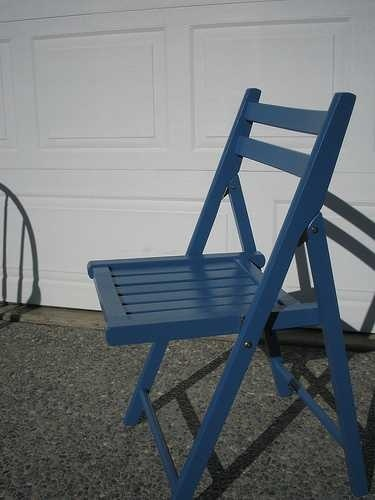obstacle: (88, 88, 366, 499)
